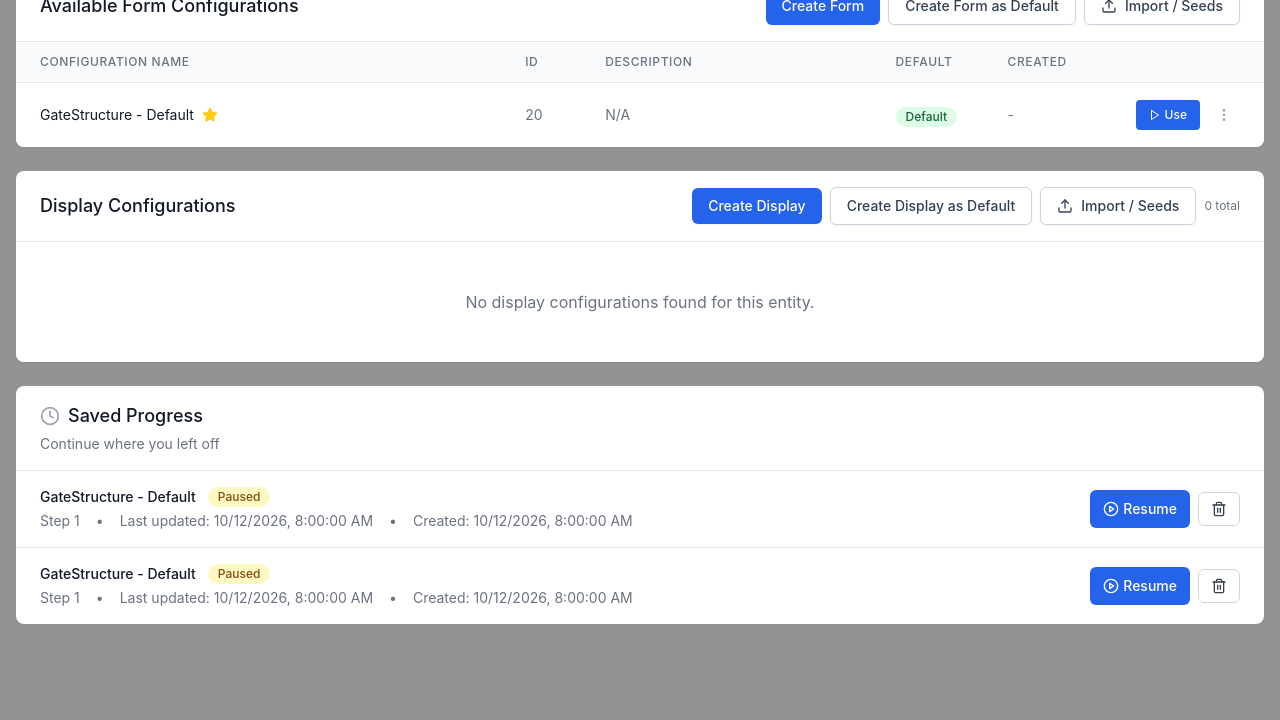
Scenario: FormWizardPage: delete a draft that recorded created entities (KNG-162) › closing the plain confirm deletes nothing
(page scrolled)
Click the 2nd button named "Delete saved progress": (1219,586) [1198,569,1240,603]
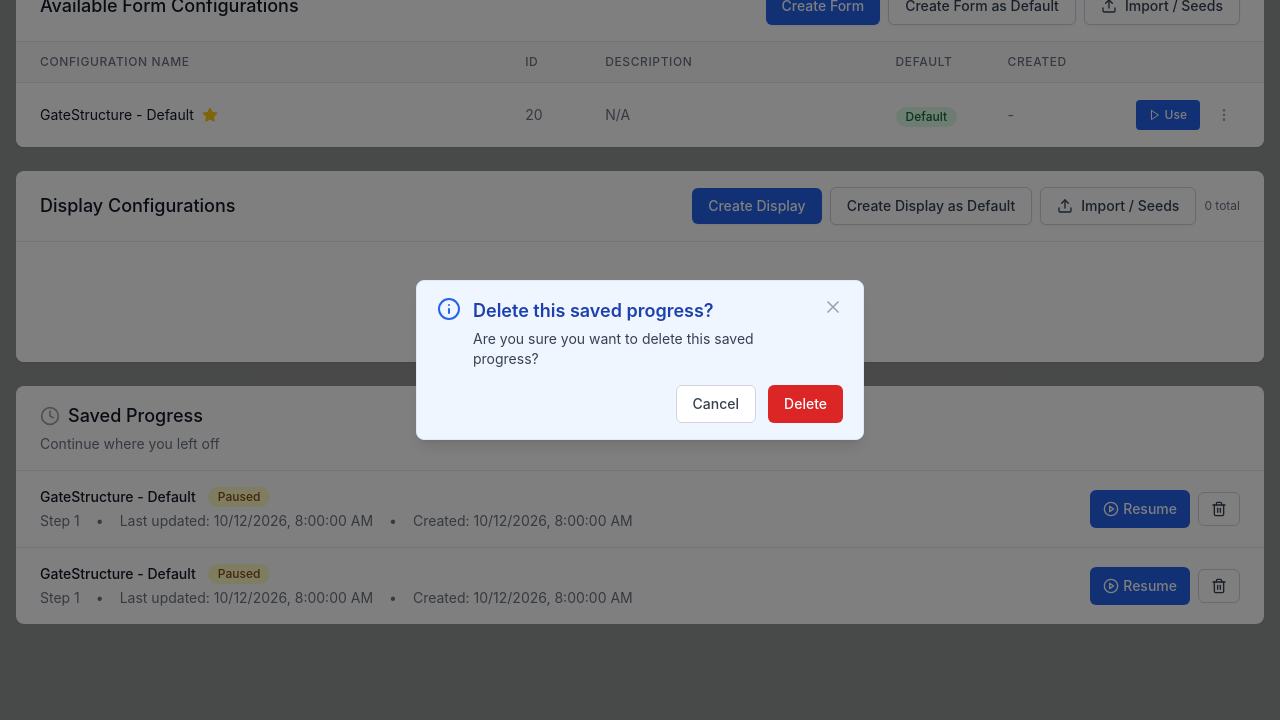
Click the button named "Close dialog": (833,307) [823,297,843,317]
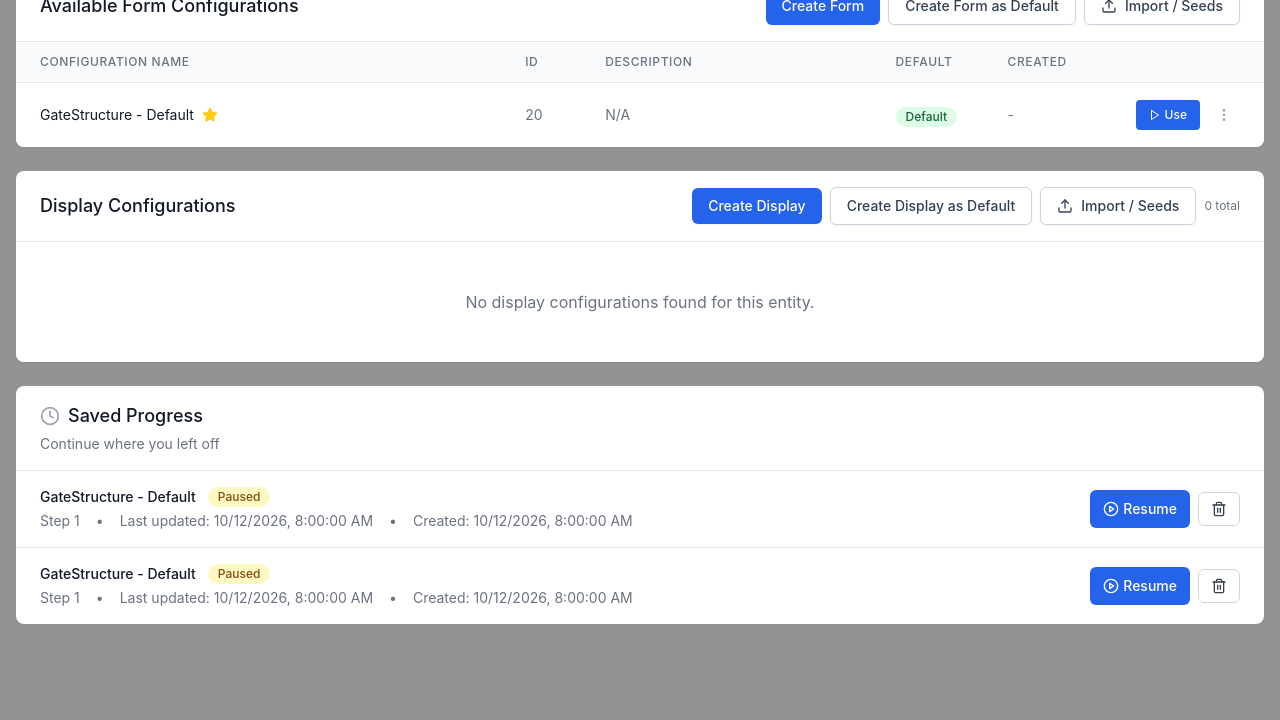
Expected: the heading "Delete this saved progress?" is gone
